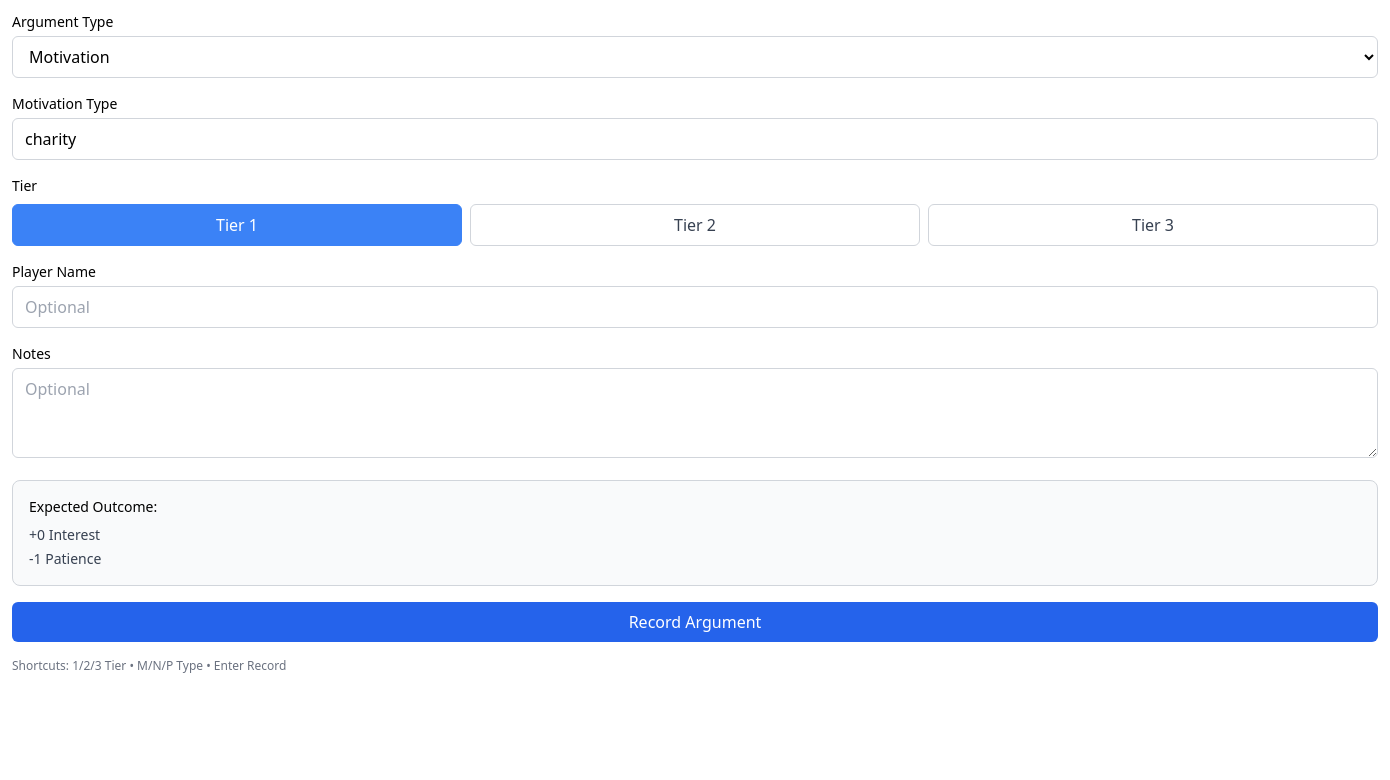
Test: ArgumentControls Component - Outcome Preview (Issue #403 - TDD RED) › Motivation Arguments - Draw Steel Rules › should show tier 3 motivation: +1 interest, +0 patience
Click the button "Tier 3": click(1153, 225) left=928, top=204, right=1378, bottom=246
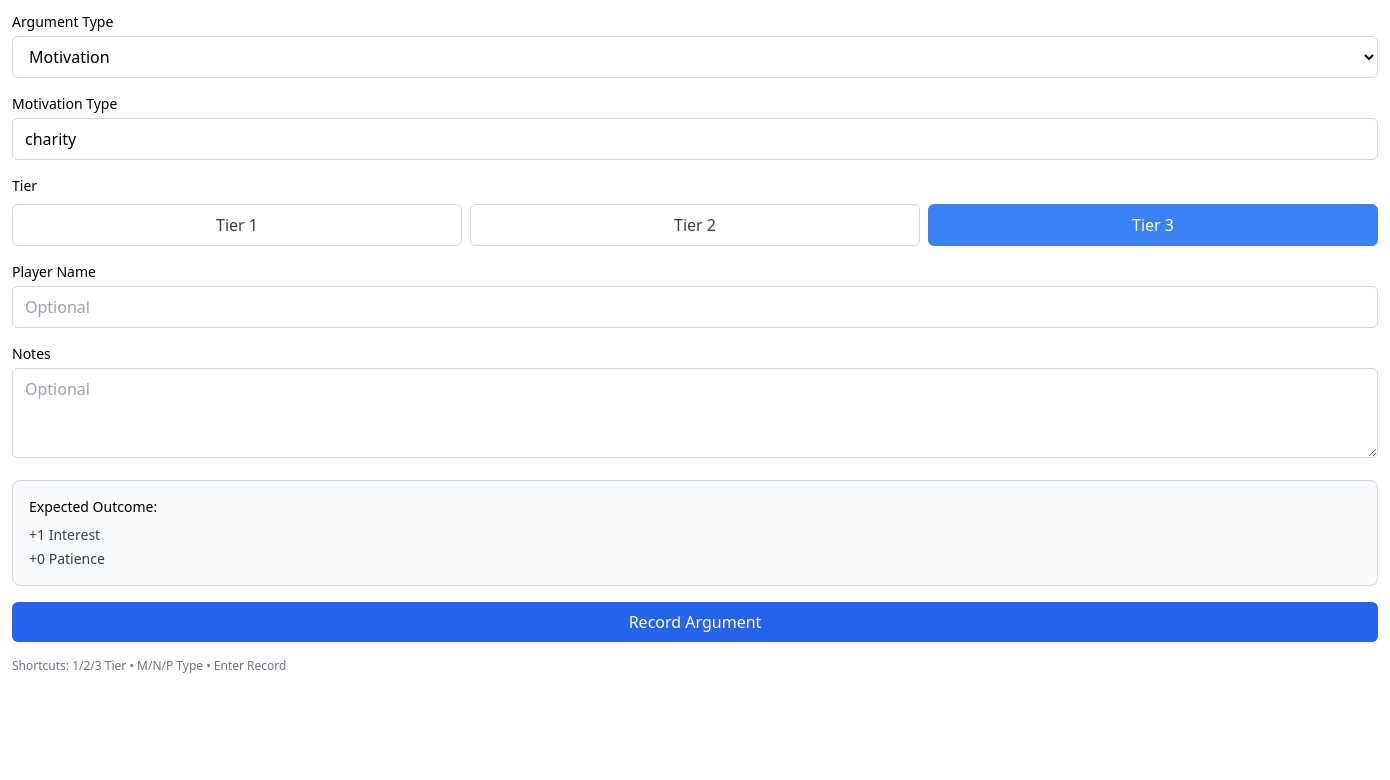
expect the text "+1 Interest" is shown: met, box left=29, top=525, right=100, bottom=544
expect the text "+0 Patience" is shown: met, box left=29, top=549, right=105, bottom=568
